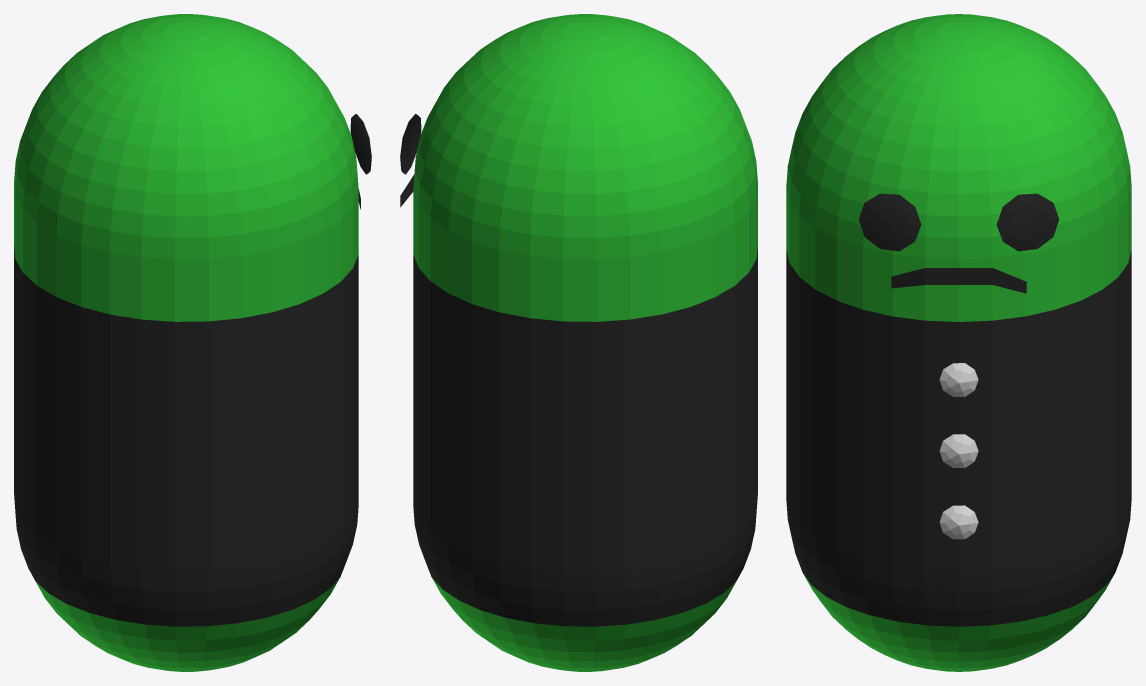
File: Enemy2 cool shirt.fbx
The picture shows the model from 3 angles, left to right: view 1: azimuth 30°, elevation 25°; view 2: azimuth 150°, elevation 25°; view 3: azimuth 270°, elevation 25°; orthographic projection.
Parts seen in each view (by area): view 1: Circle.002; view 2: Circle.002; view 3: Circle.002.
Boxes of the visible parts, box(x1,y1,x2,y2) form: Circle.002: box(14, 14, 371, 671); Circle.002: box(400, 14, 757, 671); Circle.002: box(786, 14, 1131, 671).
Bounding box in the file's own units: 205 × 400 × 200.
